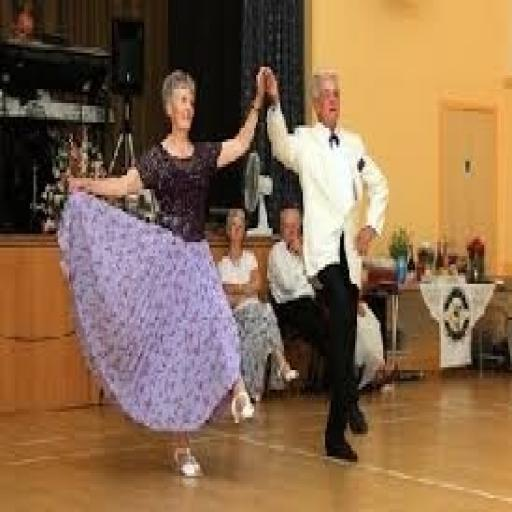dancing: (256, 61, 392, 468)
